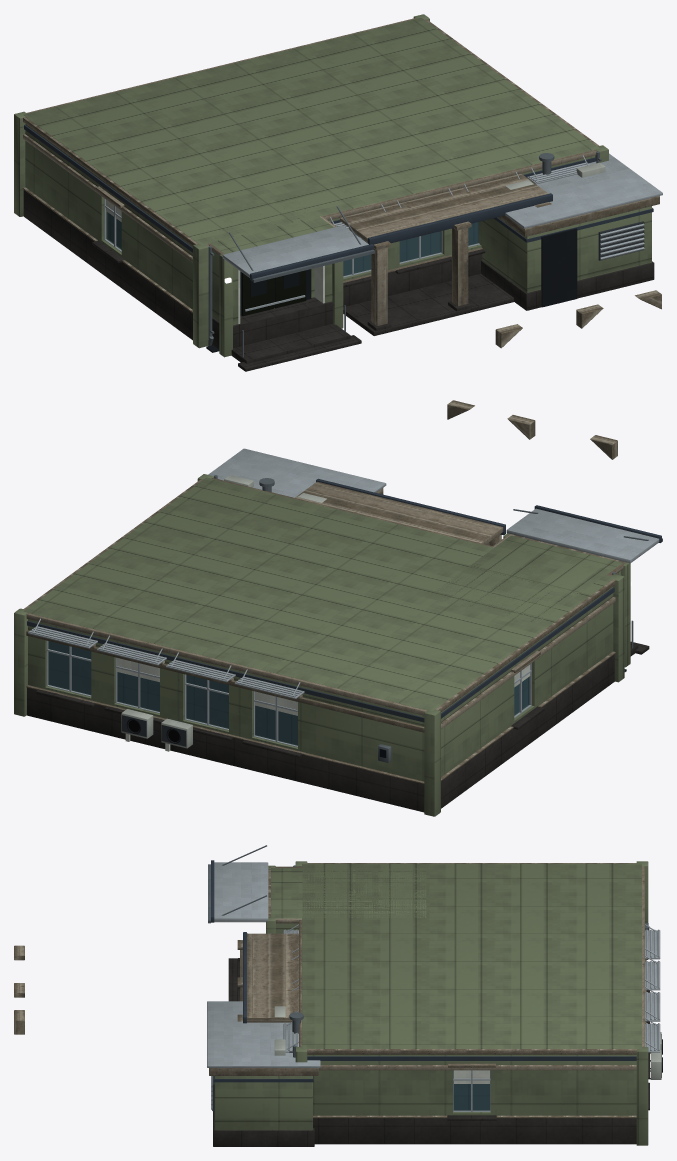
Rendered from fac_generic_main.glb.
The picture shows the model from 3 angles, top to bottom: view 1: azimuth 30°, elevation 25°; view 2: azimuth 150°, elevation 25°; view 3: azimuth 270°, elevation 25°; orthographic projection. The views are drawn at different scales.
Visible parts, largest first — view 1: FAC_GENERIC_MAIN; view 2: FAC_GENERIC_MAIN; view 3: FAC_GENERIC_MAIN.
Part boxes in pixels (box(x1,y1,x2,y2)): FAC_GENERIC_MAIN: box(14, 14, 662, 371); FAC_GENERIC_MAIN: box(14, 400, 662, 816); FAC_GENERIC_MAIN: box(14, 845, 662, 1146).
Bounding box in the file's own units: 14.06 × 3.98 × 19.8.
Materials: 20 (15 with a texture image).
